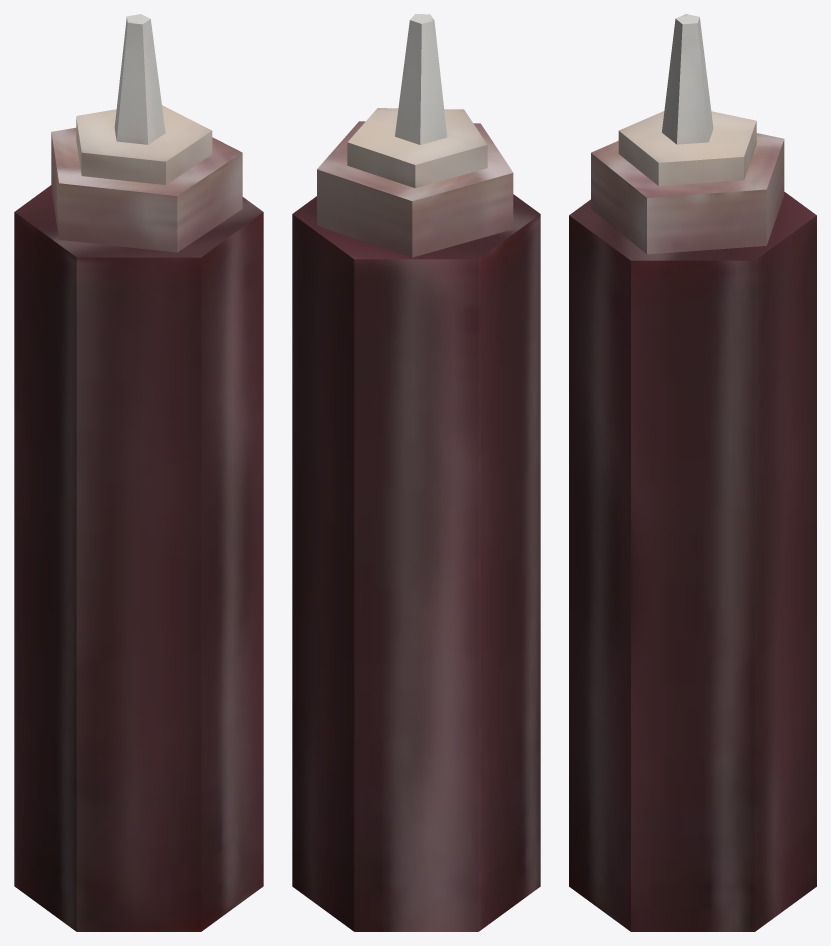
The model's file is Ketchup.fbx.
The picture shows the model from 3 angles, left to right: view 1: azimuth 30°, elevation 25°; view 2: azimuth 150°, elevation 25°; view 3: azimuth 270°, elevation 25°; orthographic projection.
Visible parts, largest first — view 1: Ketchup; view 2: Ketchup; view 3: Ketchup.
Boxes of the visible parts, box(x1,y1,x2,y2) form: Ketchup: box(14, 14, 263, 931); Ketchup: box(292, 14, 540, 931); Ketchup: box(569, 14, 816, 931).
Size of the model in its own units: 6.45 by 28.68 by 7.44.
